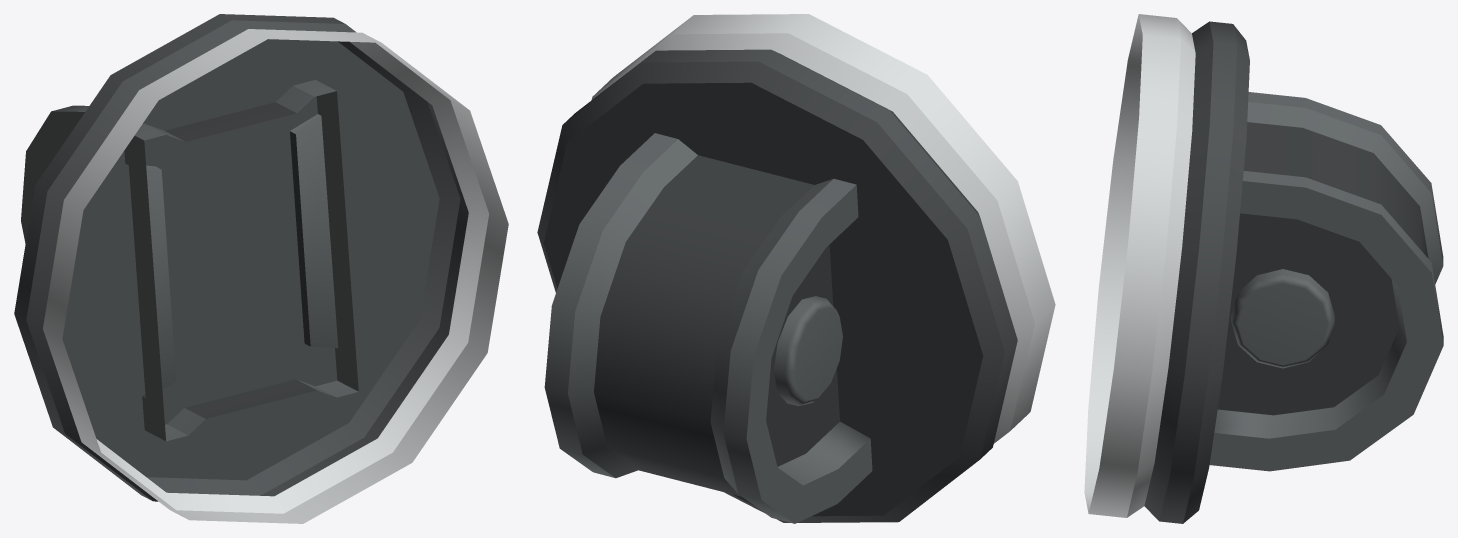
File: Armchair_015_Part_01.fbx
3 renders of one model, left to right at view 1: azimuth 30°, elevation 25°; view 2: azimuth 150°, elevation 25°; view 3: azimuth 270°, elevation 25°, orthographic. The views are drawn at different scales.
Visible parts, largest first — view 1: Armchair_015_Part_01; view 2: Armchair_015_Part_01; view 3: Armchair_015_Part_01.
Boxes of the visible parts, box(x1,y1,x2,y2) form: Armchair_015_Part_01: box(14, 14, 508, 523); Armchair_015_Part_01: box(537, 14, 1055, 523); Armchair_015_Part_01: box(1084, 14, 1443, 523).
Bounding box in the file's own units: 28.19 × 20.04 × 28.61.
